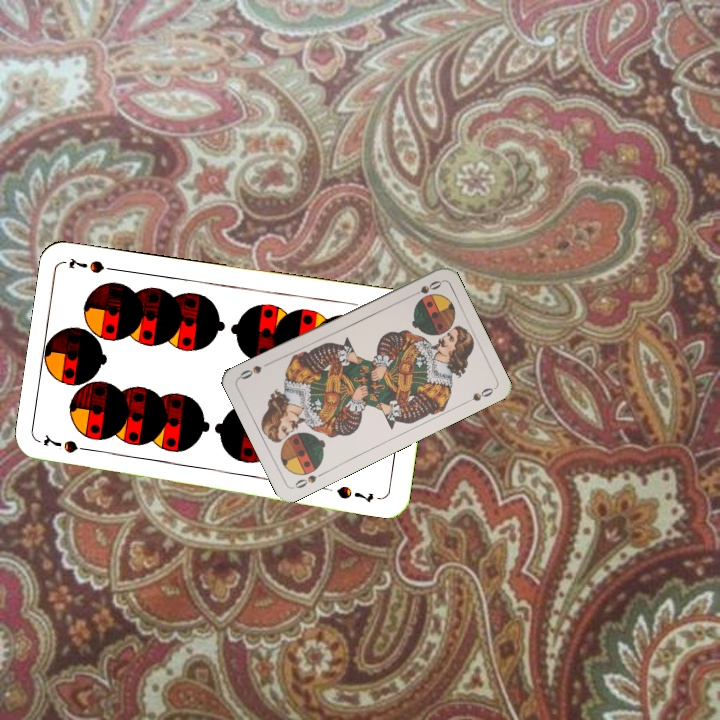S7: (39, 434, 97, 456)
SO: (406, 276, 444, 300), (289, 468, 327, 491)
